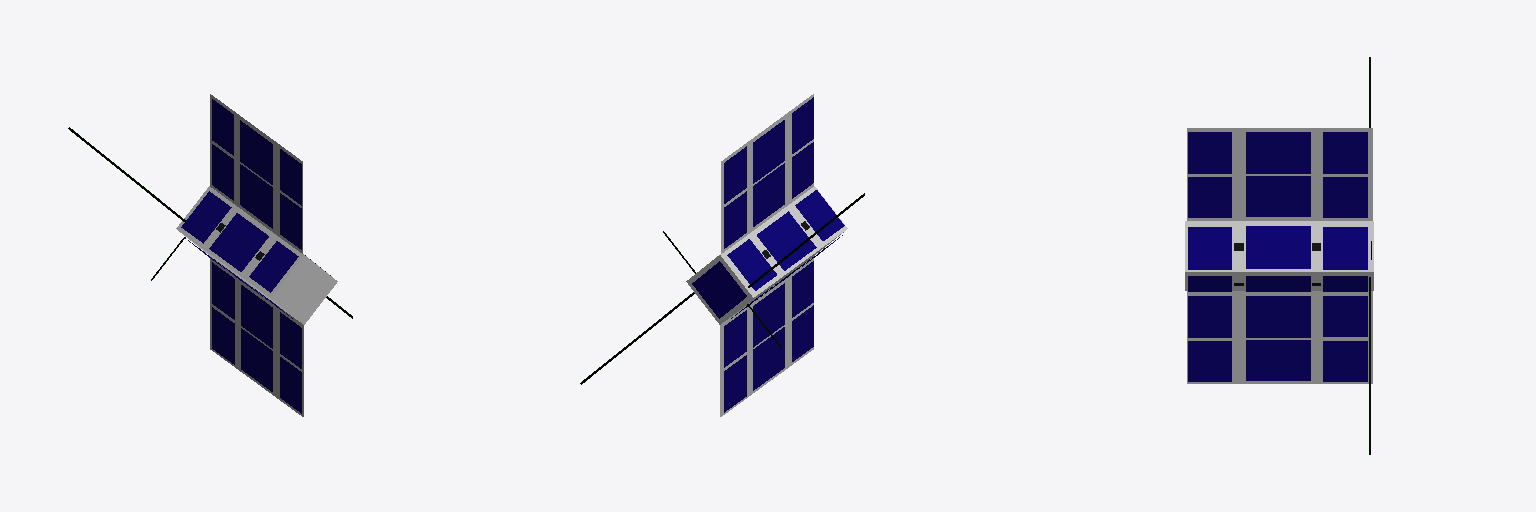
File: lemur.obj
The picture shows the model from 3 angles: view 1: azimuth 30°, elevation 25°; view 2: azimuth 150°, elevation 25°; view 3: azimuth 270°, elevation 25°; orthographic projection.
Parts seen in each view (by area): view 1: Cube_Cube.040, Plane.064_Plane.086, Plane.069_Plane.197, ReducedSolarCell.035_Plane.339, ReducedSolarCell.028_Plane.332, ReducedSolarCell.029_Plane.333, ReducedSolarCell.023_Plane.327, ReducedSolarCell.022_Plane.326, ReducedSolarCell.033_Plane.337, ReducedSolarCell.034_Plane.338, ReducedSolarCell.018_Plane.322, ReducedSolarCell.019_Plane.323 (+6 smaller); view 2: Cube_Cube.040, Plane.064_Plane.086, Plane.069_Plane.197, ReducedSolarCell.035_Plane.339, ReducedSolarCell.036_Plane.002, ReducedSolarCell.028_Plane.332, ReducedSolarCell.029_Plane.333, ReducedSolarCell.022_Plane.326, ReducedSolarCell.023_Plane.327, ReducedSolarCell.033_Plane.337, ReducedSolarCell.034_Plane.338, ReducedSolarCell.025_Plane.329 (+7 smaller); view 3: Plane.142_Plane.304, Plane.141_Plane.303, Cube_Cube.040, ReducedSolarCell.014_Plane.318, ReducedSolarCell.004_Plane.308, ReducedSolarCell.010_Plane.314, ReducedSolarCell.005_Plane.309, ReducedSolarCell.011_Plane.315, ReducedSolarCell.012_Plane.316, ReducedSolarCell.013_Plane.317, ReducedSolarCell_Plane, ReducedSolarCell.003_Plane.307 (+9 smaller).
Part boxes in pixels (x1,y1,x2,y2): Cube_Cube.040: (176, 186, 337, 324); Plane.064_Plane.086: (210, 94, 302, 253); Plane.069_Plane.197: (210, 258, 302, 416); ReducedSolarCell.035_Plane.339: (209, 213, 268, 271); ReducedSolarCell.028_Plane.332: (240, 164, 272, 228); ReducedSolarCell.029_Plane.333: (240, 120, 272, 184); ReducedSolarCell.023_Plane.327: (241, 285, 272, 348); ReducedSolarCell.022_Plane.326: (241, 328, 272, 391); ReducedSolarCell.033_Plane.337: (181, 191, 231, 243); ReducedSolarCell.034_Plane.338: (249, 241, 298, 292); ReducedSolarCell.018_Plane.322: (212, 307, 234, 364); ReducedSolarCell.019_Plane.323: (212, 262, 234, 319); Cube_Cube.040: (686, 186, 847, 324); Plane.064_Plane.086: (721, 94, 813, 253); Plane.069_Plane.197: (721, 258, 813, 416); ReducedSolarCell.035_Plane.339: (757, 211, 816, 270); ReducedSolarCell.036_Plane.002: (692, 261, 746, 318); ReducedSolarCell.028_Plane.332: (753, 163, 784, 226); ReducedSolarCell.029_Plane.333: (753, 120, 784, 183); ReducedSolarCell.022_Plane.326: (753, 327, 784, 390); ReducedSolarCell.023_Plane.327: (753, 283, 784, 347); ReducedSolarCell.033_Plane.337: (727, 239, 776, 290); ReducedSolarCell.034_Plane.338: (795, 190, 844, 240); ReducedSolarCell.025_Plane.329: (724, 146, 746, 203); Plane.142_Plane.304: (1187, 128, 1372, 220); Plane.141_Plane.303: (1187, 291, 1372, 383); Cube_Cube.040: (1185, 221, 1373, 290); ReducedSolarCell.014_Plane.318: (1246, 226, 1310, 268); ReducedSolarCell.004_Plane.308: (1246, 132, 1310, 173); ReducedSolarCell.010_Plane.314: (1246, 296, 1310, 337); ReducedSolarCell.005_Plane.309: (1246, 176, 1310, 216); ReducedSolarCell.011_Plane.315: (1246, 340, 1310, 380); ReducedSolarCell.012_Plane.316: (1323, 227, 1367, 269); ReducedSolarCell.013_Plane.317: (1188, 227, 1231, 269); ReducedSolarCell_Plane: (1323, 132, 1367, 173); ReducedSolarCell.003_Plane.307: (1188, 132, 1231, 173).
Size of the model in its own units: 11.94 by 10.41 by 6.87.